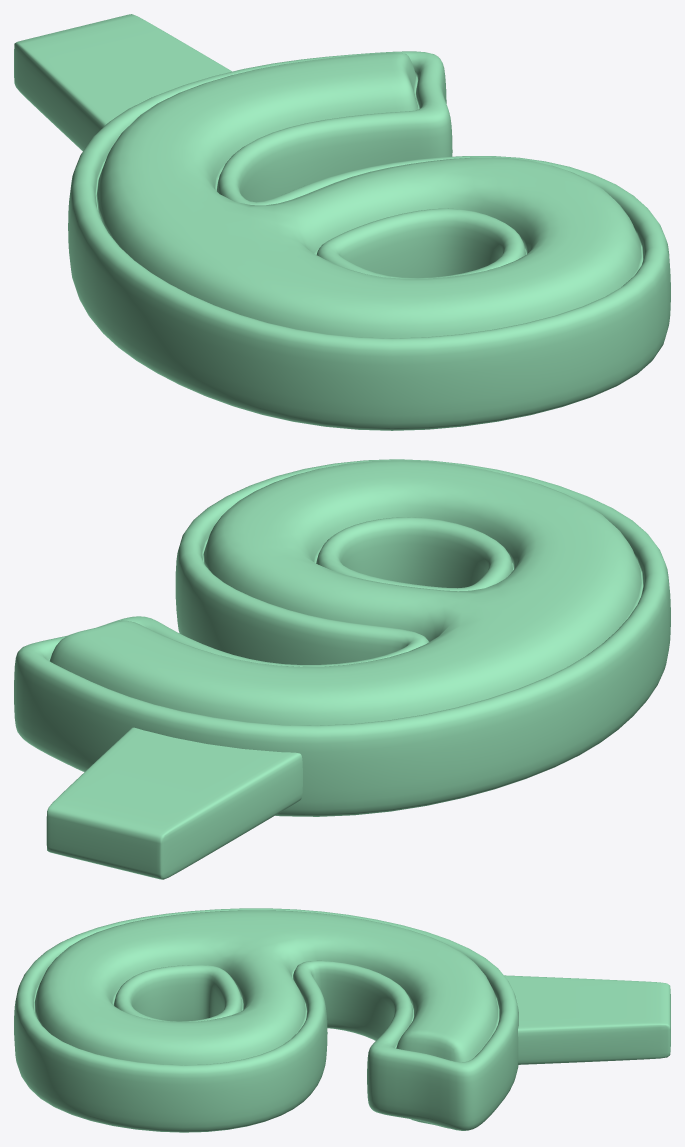
The picture shows the model from 3 angles, top to bottom: view 1: azimuth 30°, elevation 25°; view 2: azimuth 150°, elevation 25°; view 3: azimuth 270°, elevation 25°; orthographic projection. The views are drawn at different scales.
Visible parts, largest first — view 1: _Number_9_v1:_Number_9_v1; view 2: _Number_9_v1:_Number_9_v1; view 3: _Number_9_v1:_Number_9_v1.
Boxes of the visible parts, x1,y1,x2,y2 form: _Number_9_v1:_Number_9_v1: (14,14,670,430); _Number_9_v1:_Number_9_v1: (14,459,670,879); _Number_9_v1:_Number_9_v1: (14,908,670,1132).
Bounding box in the file's own units: 7.74 × 1.98 × 12.92.
